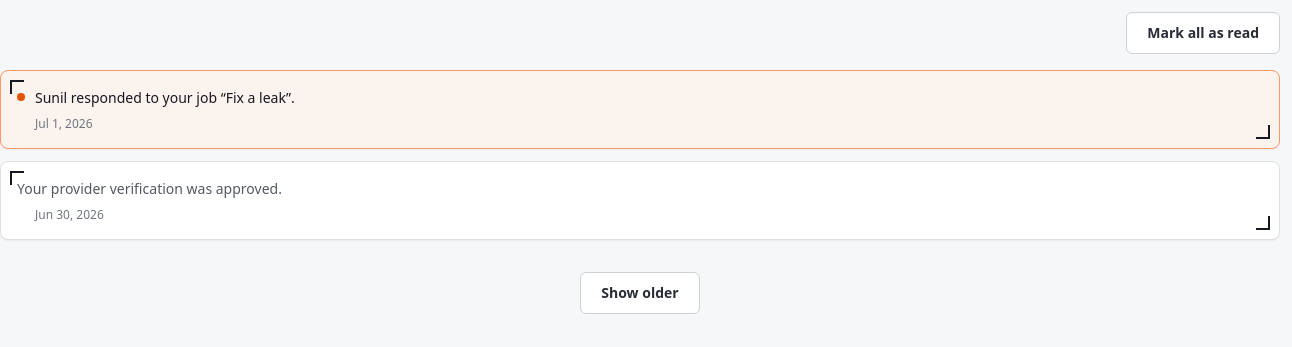
Scenario: NotificationsFeed › pages older rows through the cursor and stops at the end
The width and height of the screenshot is (1292, 347).
What coordinates should you click on to do the following:
click the button "Show older"
I would click on:
 (640, 292)
Its box is [580, 272, 700, 314].
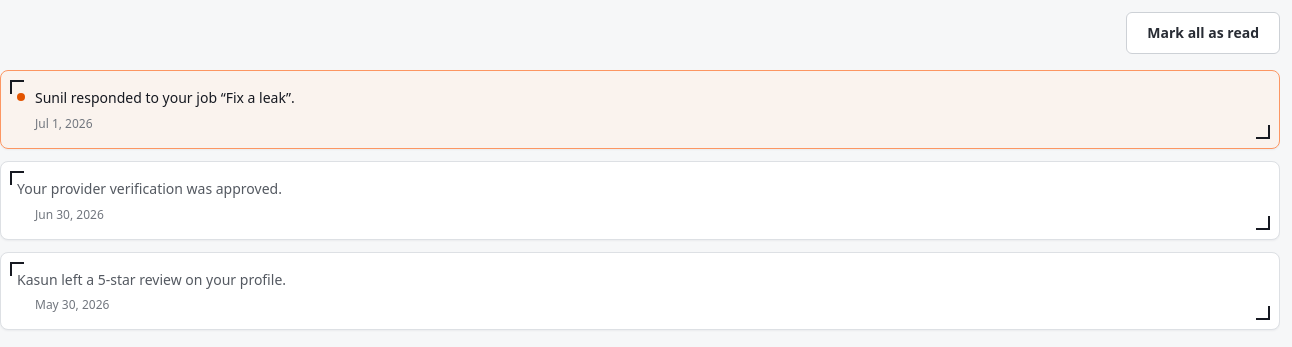
Now the button "Show older" is gone
